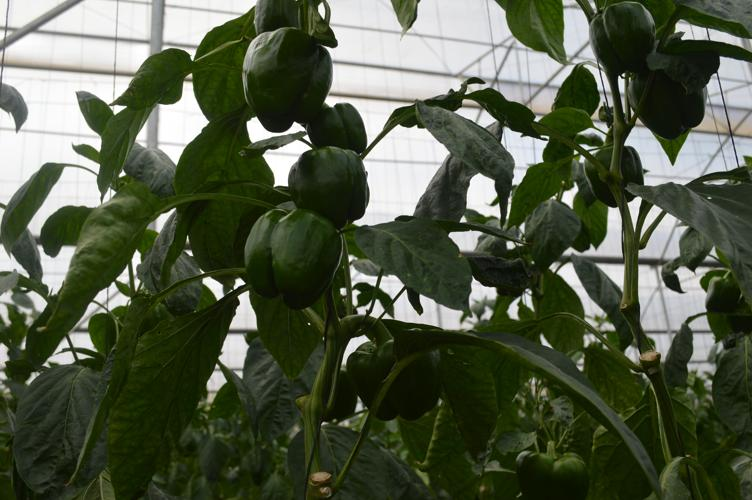BellPepper: (237, 209, 347, 306), (238, 26, 332, 135), (338, 330, 437, 422), (283, 147, 366, 226), (629, 66, 703, 140), (582, 4, 651, 67), (510, 447, 590, 496), (582, 146, 643, 203), (306, 104, 365, 151), (246, 2, 293, 34)
